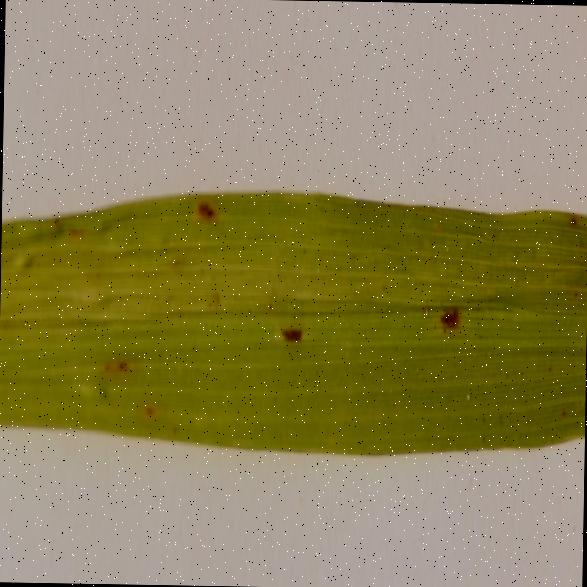Brown_Spot: (433, 280, 478, 364), (272, 289, 310, 367), (186, 178, 222, 251)
